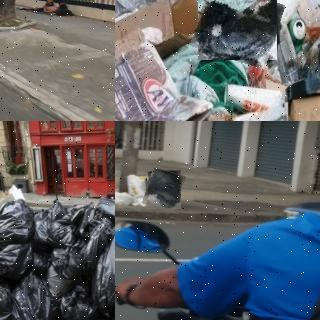Garbage: (193, 0, 281, 65), (45, 244, 84, 296), (93, 229, 115, 319), (144, 168, 184, 211), (0, 199, 35, 244), (125, 173, 152, 207), (115, 190, 134, 206)
